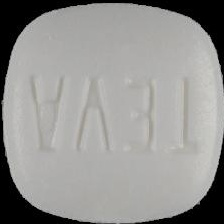0615-7716: (0, 0, 224, 224)
